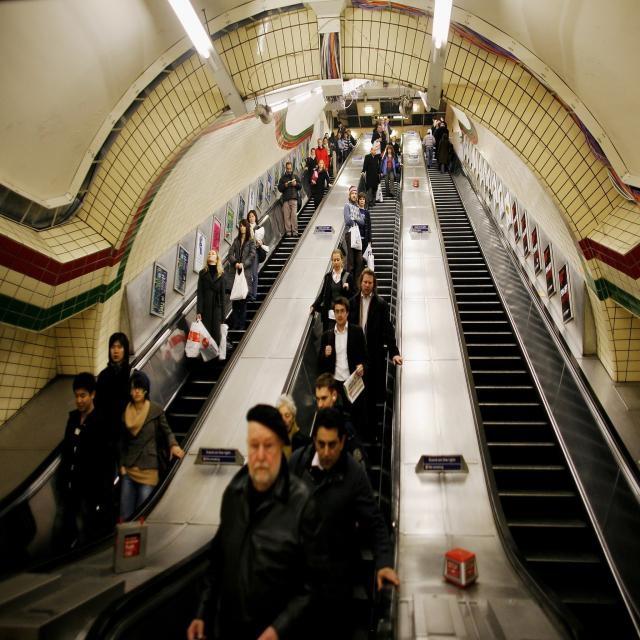body: (186, 403, 326, 640), (287, 406, 402, 596), (112, 368, 188, 574), (55, 369, 112, 552), (346, 266, 403, 448), (313, 371, 373, 494), (318, 296, 369, 430), (194, 248, 236, 382), (93, 331, 138, 452), (308, 248, 358, 330), (228, 218, 256, 332), (343, 184, 365, 295), (246, 208, 270, 303), (277, 161, 303, 238), (274, 394, 300, 462), (356, 191, 374, 271), (310, 158, 334, 212), (380, 144, 404, 197), (360, 144, 380, 200), (371, 123, 387, 168), (436, 132, 451, 174), (327, 132, 340, 178), (303, 148, 319, 185), (422, 128, 436, 170), (314, 137, 330, 172), (435, 122, 449, 160), (342, 130, 356, 166), (434, 122, 446, 160), (388, 135, 404, 162), (322, 136, 332, 178), (433, 121, 442, 152), (336, 131, 346, 157), (334, 120, 346, 140), (346, 129, 356, 153), (430, 116, 439, 136), (384, 117, 393, 135), (323, 132, 332, 148), (372, 120, 380, 134), (440, 115, 447, 128), (380, 118, 386, 132), (436, 120, 442, 126)
